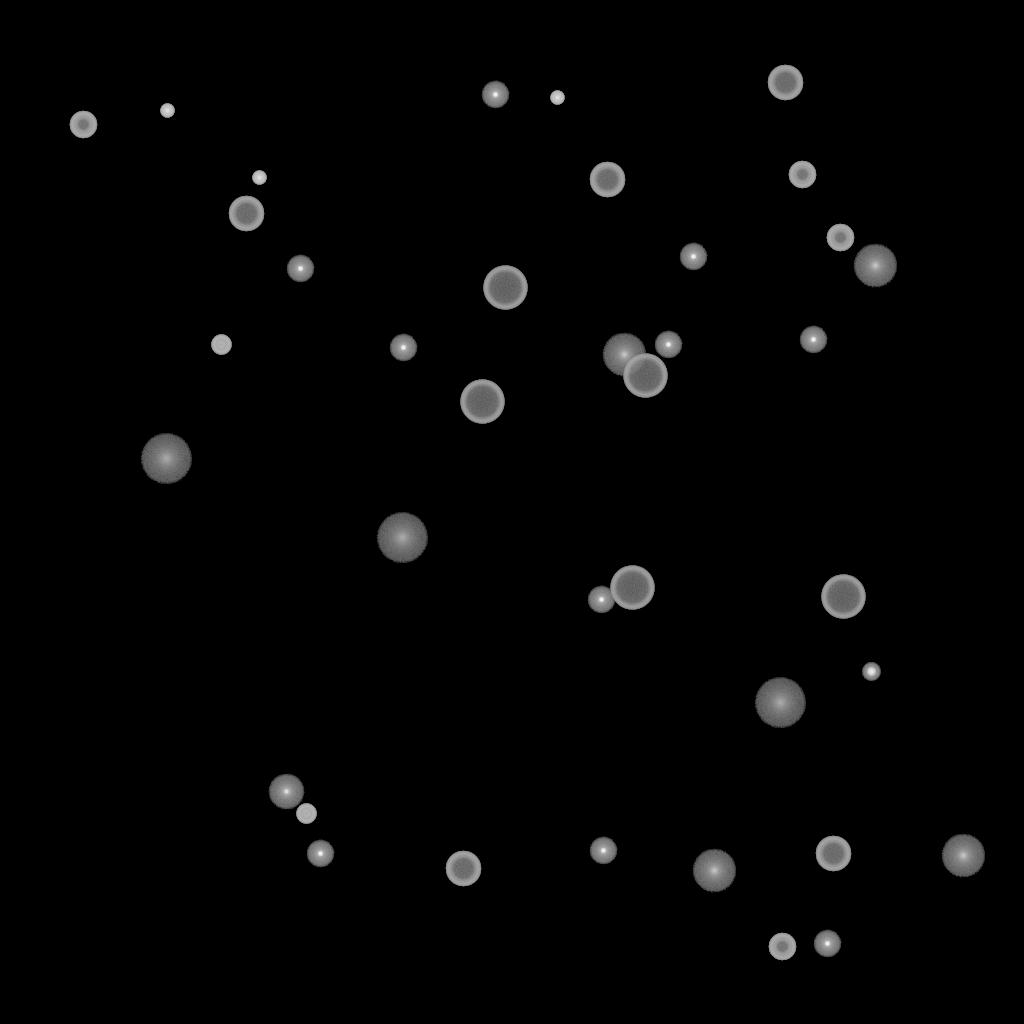depth:-10: (654, 331, 682, 359), (587, 586, 615, 614), (813, 930, 841, 958), (286, 255, 314, 283), (389, 334, 417, 362), (481, 81, 509, 109), (589, 837, 617, 865), (679, 243, 707, 271), (306, 840, 334, 868), (799, 326, 827, 354)
depth:-20: (862, 663, 880, 681)
depth:-30: (252, 171, 266, 185), (160, 104, 174, 118), (550, 91, 564, 105)
depth:-40: (296, 804, 316, 824), (211, 335, 231, 355)
depth:-50: (768, 933, 796, 961), (788, 161, 816, 189), (826, 224, 854, 252), (69, 111, 97, 139)
depth:-60: (767, 65, 803, 101), (815, 836, 851, 872), (228, 196, 264, 232), (445, 851, 481, 887), (589, 162, 625, 198)
depth:-70: (610, 566, 654, 610), (623, 354, 667, 398), (821, 575, 865, 619), (483, 266, 527, 310), (460, 380, 504, 424)
depth:0: (268, 774, 304, 810)
depth:10: (602, 333, 646, 377), (853, 244, 897, 288), (941, 834, 985, 878), (692, 849, 736, 893)
depth:20: (140, 434, 192, 484), (376, 513, 428, 563), (754, 678, 806, 728)
